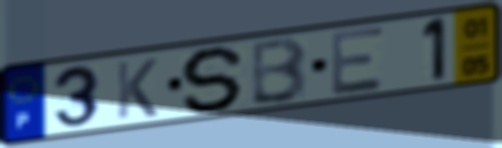1: (418, 14, 450, 85)
3: (51, 62, 105, 132)
B: (248, 34, 310, 107)
E: (328, 23, 388, 98)
K: (114, 56, 160, 122)
S: (178, 44, 250, 114)
